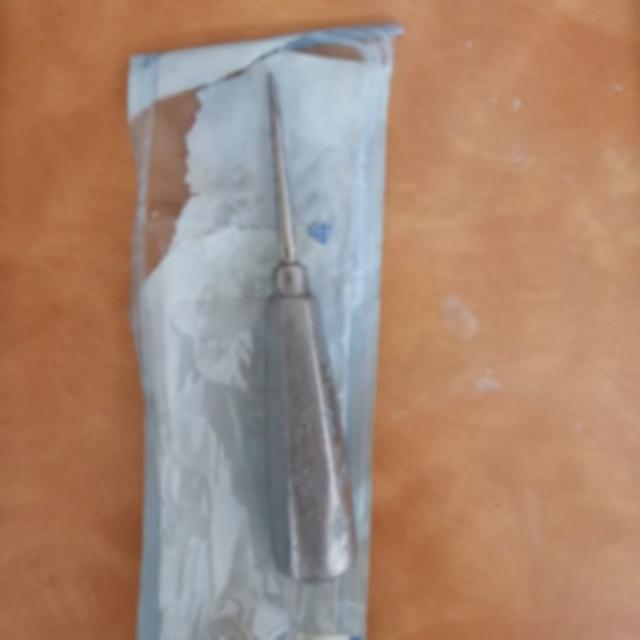botador: (263, 75, 353, 585)
